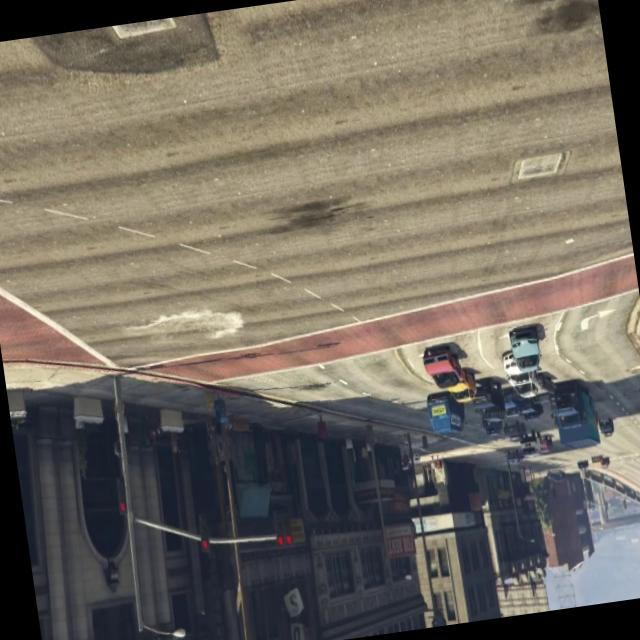Red-Signal: (266, 499, 302, 563), (107, 473, 134, 527), (188, 510, 216, 562)
